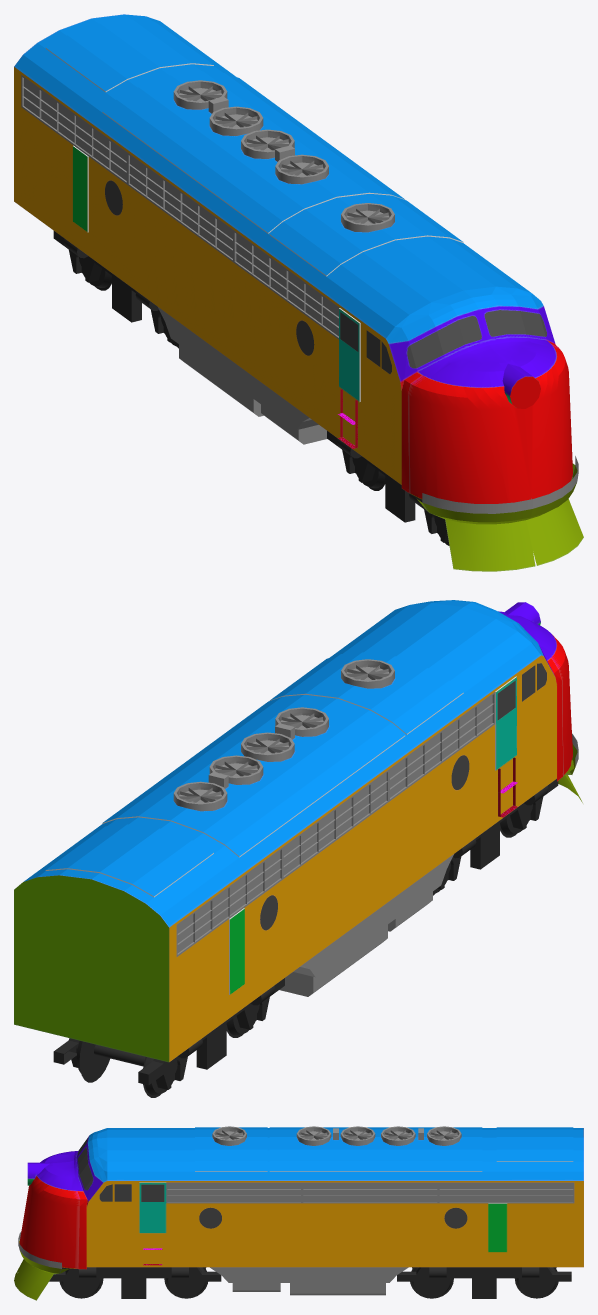
3 renders of one model, top to bottom at view 1: azimuth 30°, elevation 25°; view 2: azimuth 150°, elevation 25°; view 3: azimuth 270°, elevation 25°, orthographic. The views are drawn at different scales.
Parts seen in each view (by area): view 1: body_half (×21), side-grid (×3), bogie-mechanism-half (×4); view 2: body_half (×16), side-grid (×3), bogie-mechanism-half (×4), fan (×3), wheel_half; view 3: body_half (×22), side-grid (×6), bogie-mechanism-half (×4), fan (×5), wheel_half (×2).
Boxes of the visible parts, left/top/right/bottom form: body_half (×21): left=14, top=14, right=583, bottom=571; side-grid (×3): left=22, top=77, right=338, bottom=337; bogie-mechanism-half (×4): left=53, top=231, right=448, bottom=542; body_half (×16): left=14, top=600, right=572, bottom=1062; side-grid (×3): left=177, top=694, right=494, bottom=954; bogie-mechanism-half (×4): left=138, top=779, right=558, bottom=1089; fan (×3): left=173, top=659, right=394, bottom=811; wheel_half: left=76, top=1041, right=108, bottom=1079; body_half (×22): left=14, top=1127, right=583, bottom=1300; side-grid (×6): left=166, top=1182, right=574, bottom=1203; bogie-mechanism-half (×4): left=49, top=1267, right=571, bottom=1298; fan (×5): left=212, top=1126, right=461, bottom=1145; wheel_half (×2): left=166, top=1267, right=556, bottom=1296.
Size of the model in its own units: 126 by 586 by 179.
Materials: 15 (11 with a texture image).
